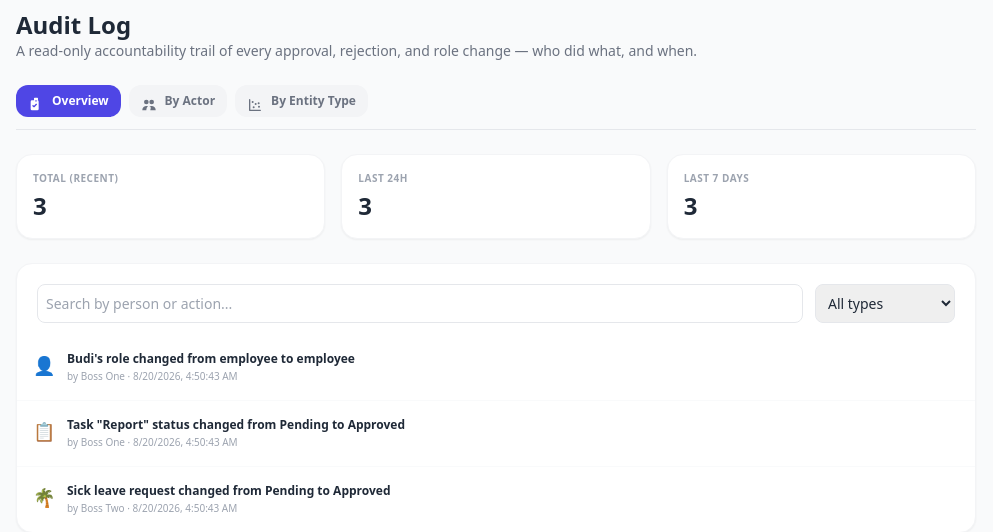
it: AuditLogView › the By Actor tab aggregates entries per actor
Click the tab "By Actor": (178,101) [128,85,227,117]
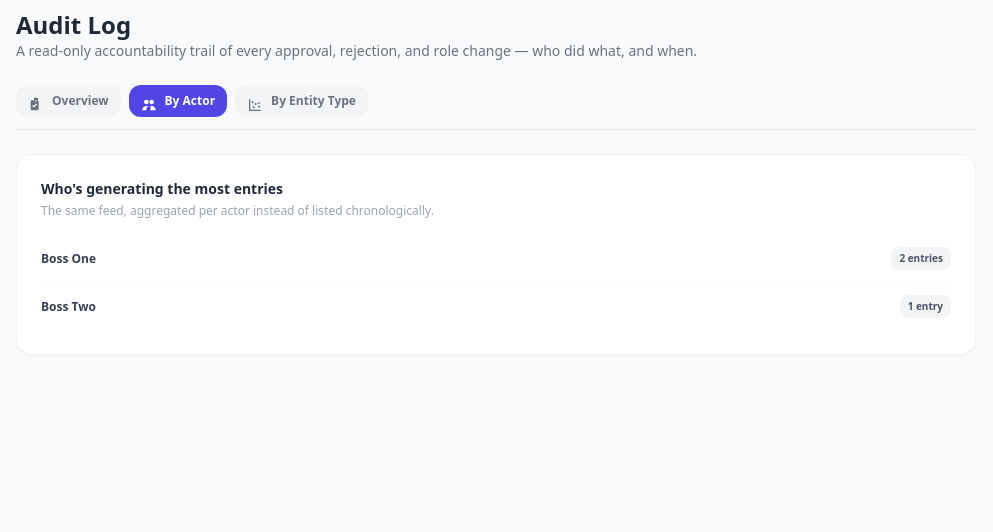
Check: the text "Boss One" is shown, box [41,250,96,266]
Check: the text "2 entries" is shown, box [891,247,951,270]
Check: the text "1 entry" is shown, box [900,295,951,318]
